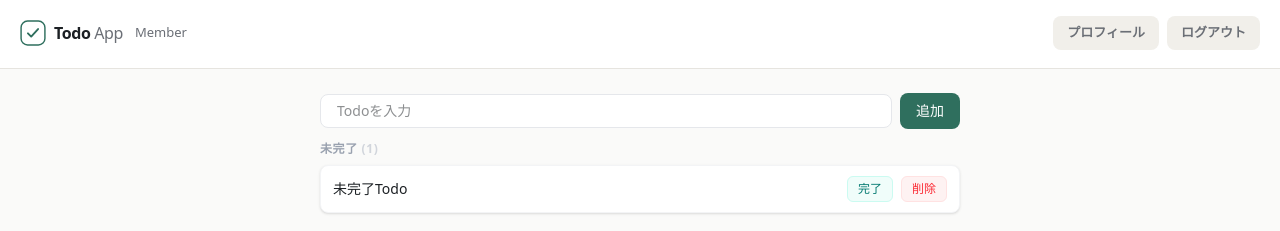
Test: TodoApp › 削除ボタンクリックでTodoがリストから削除される
expect the text "未完了Todo" is shown: met, box [333, 178, 407, 198]
Click the button "削除". click: click(924, 188)
box: [901, 176, 947, 202]
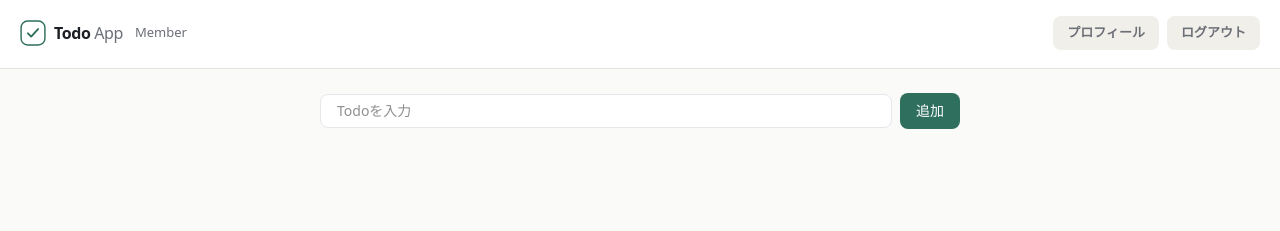
expect the text "未完了Todo" is gone: met
